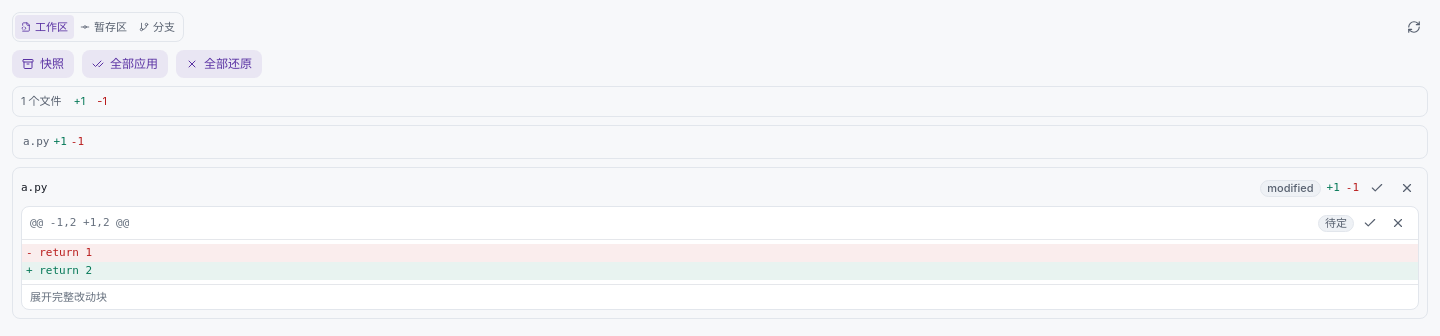
Test: PatchPreviewPanel › enables only the snapshot button in branch scope
Expected: the list with test id "patch-preview-panel-files" is shown, left=12, top=167, right=1428, bottom=319
What coordinates should you click on to do the following:
click the button with test id "patch-preview-panel-scope-branch"
I would click on:
 (157, 27)
Its box is left=133, top=15, right=181, bottom=39.
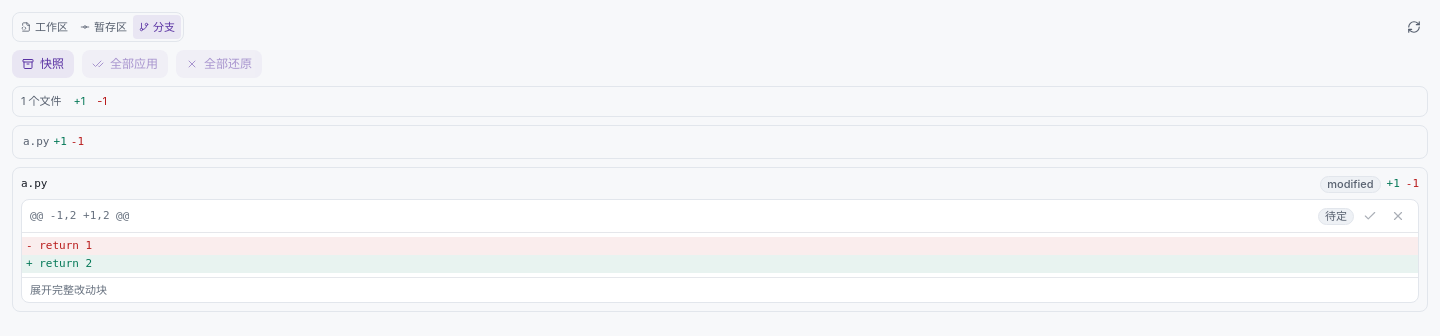
Expected: the button with test id "patch-preview-panel-snapshot" is enabled, left=12, top=50, right=74, bottom=78
Expected: the button with test id "patch-preview-panel-apply-all" is disabled, left=82, top=50, right=168, bottom=78
Expected: the button with test id "patch-preview-panel-revert-all" is disabled, left=176, top=50, right=262, bottom=78
